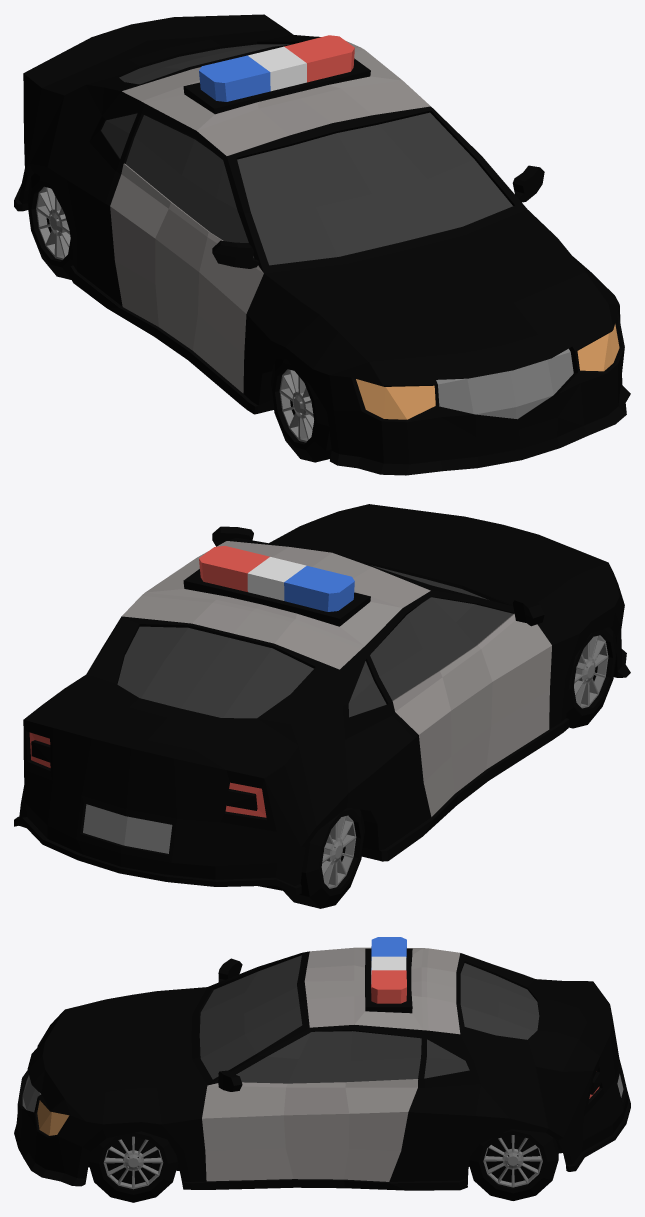
Rendered from Cop.glb.
3 renders of one model, top to bottom at view 1: azimuth 30°, elevation 25°; view 2: azimuth 150°, elevation 25°; view 3: azimuth 270°, elevation 25°, orthographic. The views are drawn at different scales.
Visible parts, largest first — view 1: Cop, Cop_FrontRightWheel, Cop_BackWheels; view 2: Cop, Cop_BackWheels, Cop_FrontRightWheel; view 3: Cop, Cop_BackWheels, Cop_FrontLeftWheel.
Part boxes in pixels (left/top/right/bottom): Cop: left=14, top=14, right=630, bottom=475; Cop_FrontRightWheel: left=270, top=358, right=331, bottom=462; Cop_BackWheels: left=27, top=173, right=73, bottom=279; Cop: left=14, top=504, right=630, bottom=895; Cop_BackWheels: left=283, top=807, right=364, bottom=908; Cop_FrontRightWheel: left=566, top=627, right=617, bottom=728; Cop: left=14, top=937, right=630, bottom=1190; Cop_BackWheels: left=469, top=1129, right=558, bottom=1200; Cop_FrontLeftWheel: left=88, top=1131, right=178, bottom=1202.
Size of the model in its own units: 1.78 by 1.24 by 3.73.
